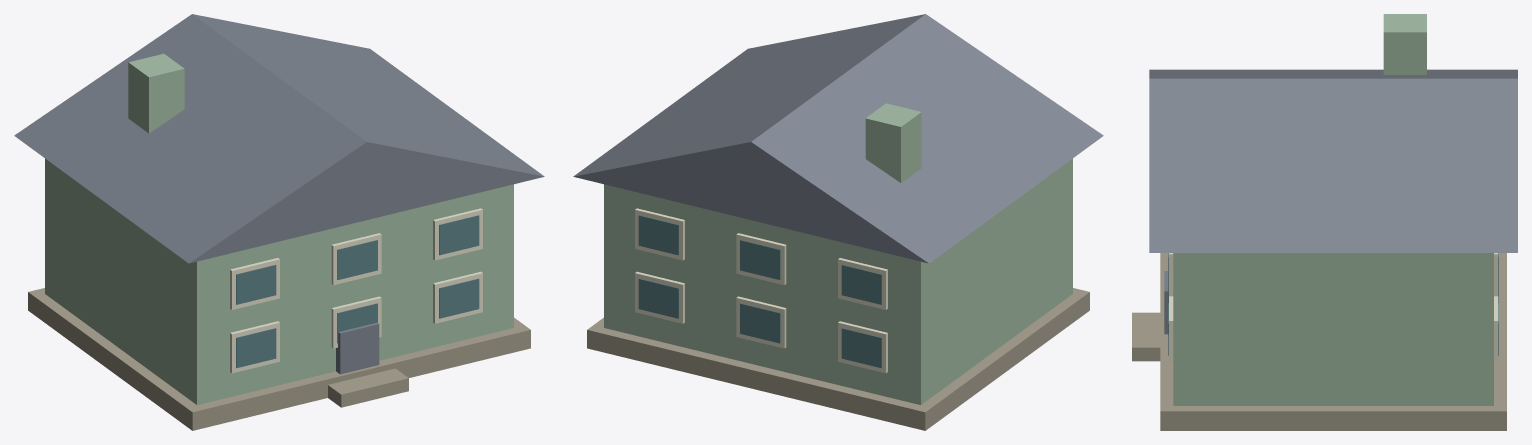
Rendered from coastal-sage.glb.
3 renders of one model, left to right at view 1: azimuth 30°, elevation 25°; view 2: azimuth 150°, elevation 25°; view 3: azimuth 270°, elevation 25°, orthographic. The views are drawn at different scales.
Parts seen in each view (by area): view 1: Gable, Main volume, Footing, Chimney, Entry step, Entry, Window glazing.010, Window glazing, Window glazing.004, Window glazing.006, Window glazing.008, Window trim.008 (+6 smaller); view 2: Gable, Main volume, Footing, Chimney, Window glazing.011, Window glazing.001, Window glazing.003, Window glazing.005, Window glazing.007, Window glazing.009, Window trim.003, Window trim.009 (+4 smaller); view 3: Gable, Main volume, Footing, Chimney, Entry step.
Part boxes in pixels (left/top/right/bottom): Gable: left=14, top=14, right=544, bottom=263; Main volume: left=45, top=158, right=513, bottom=404; Footing: left=28, top=288, right=530, bottom=430; Chimney: left=128, top=53, right=184, bottom=133; Entry step: left=328, top=368, right=408, bottom=407; Entry: left=336, top=322, right=379, bottom=374; Window glazing.010: left=439, top=215, right=479, bottom=255; Window glazing: left=236, top=328, right=276, bottom=368; Window glazing.004: left=439, top=278, right=479, bottom=318; Window glazing.006: left=236, top=265, right=276, bottom=304; Window glazing.008: left=337, top=240, right=377, bottom=279; Window trim.008: left=331, top=233, right=381, bottom=285; Gable: left=573, top=14, right=1103, bottom=263; Main volume: left=604, top=158, right=1072, bottom=404; Footing: left=587, top=288, right=1089, bottom=430; Chimney: left=865, top=103, right=921, bottom=182; Window glazing.011: left=638, top=215, right=678, bottom=255; Window glazing.001: left=841, top=328, right=881, bottom=368; Window glazing.003: left=740, top=303, right=780, bottom=343; Window glazing.005: left=638, top=278, right=678, bottom=318; Window glazing.007: left=841, top=265, right=881, bottom=304; Window glazing.009: left=740, top=240, right=780, bottom=279; Window trim.003: left=736, top=296, right=786, bottom=348; Window trim.009: left=736, top=233, right=786, bottom=285; Gable: left=1149, top=69, right=1517, bottom=252; Main volume: left=1173, top=253, right=1493, bottom=405; Footing: left=1160, top=253, right=1506, bottom=430; Chimney: left=1383, top=14, right=1426, bottom=74; Entry step: left=1132, top=312, right=1160, bottom=361.
Size of the model in its own units: 20 by 14 by 17.8.
